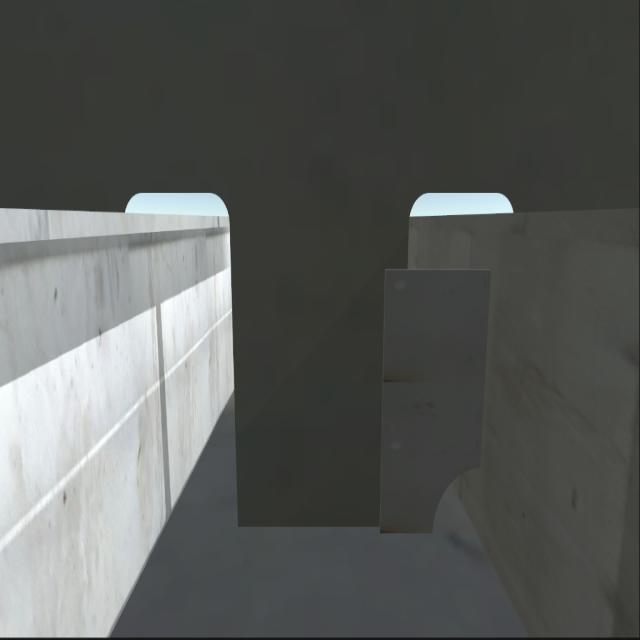fillet_hole: (431, 472, 478, 534)
fillet_yong_jeop_jang: (225, 506, 442, 546)
longi_yong_jeop_jang: (470, 264, 493, 472)
plate_CP01: (374, 267, 490, 536)
